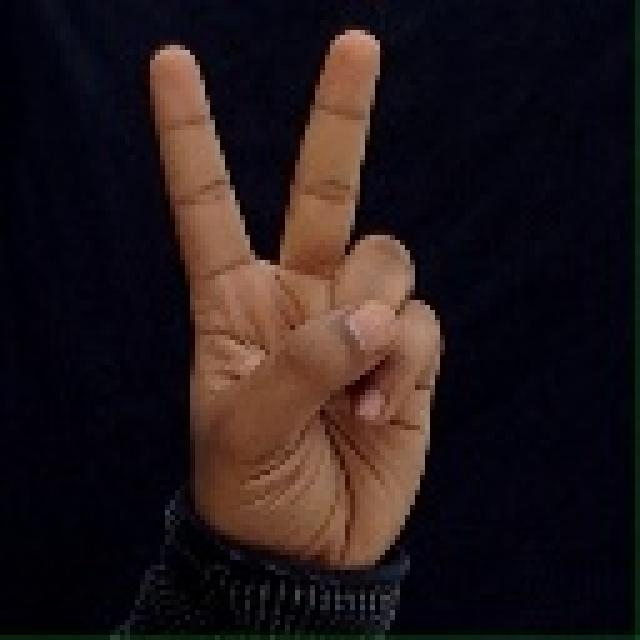Numeric-2: (138, 22, 450, 572)
